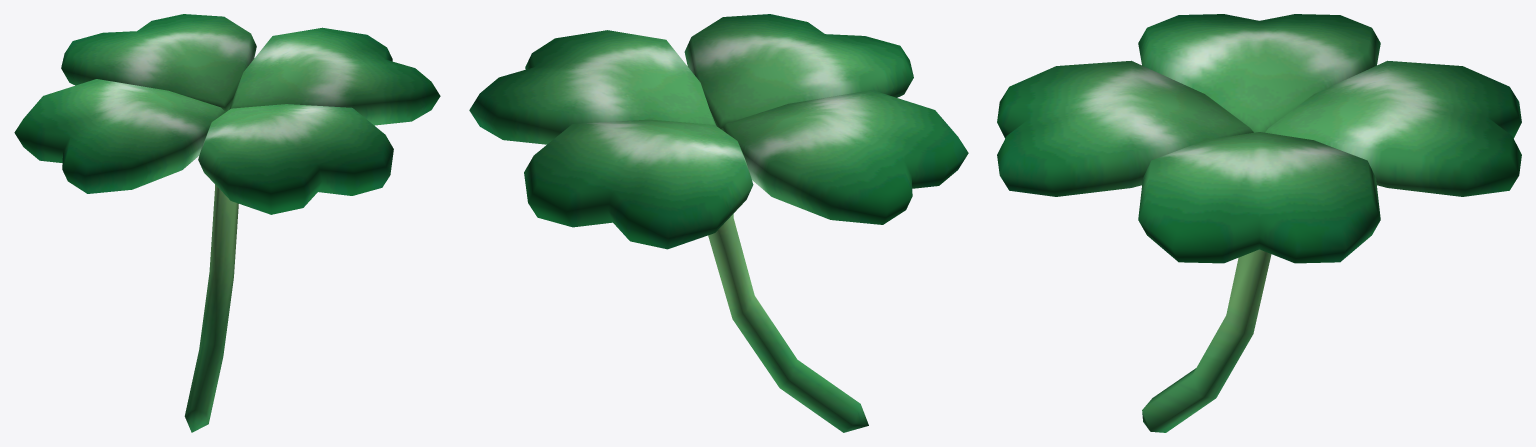
File: ICON.ICO.obj
The picture shows the model from 3 angles, left to right: view 1: azimuth 30°, elevation 25°; view 2: azimuth 150°, elevation 25°; view 3: azimuth 270°, elevation 25°; orthographic projection. The views are drawn at different scales.
Bounding box in the file's own units: 3.98 × 3.18 × 3.98.
1 material, 1 textured.
